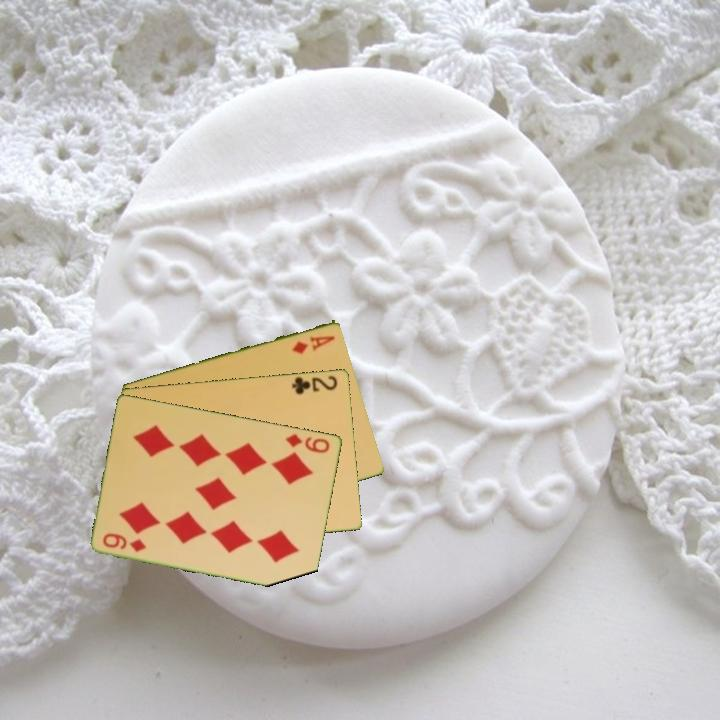2c: (289, 372, 340, 397)
9d: (282, 430, 333, 456), (99, 529, 149, 555)
Ad: (289, 332, 338, 356)
